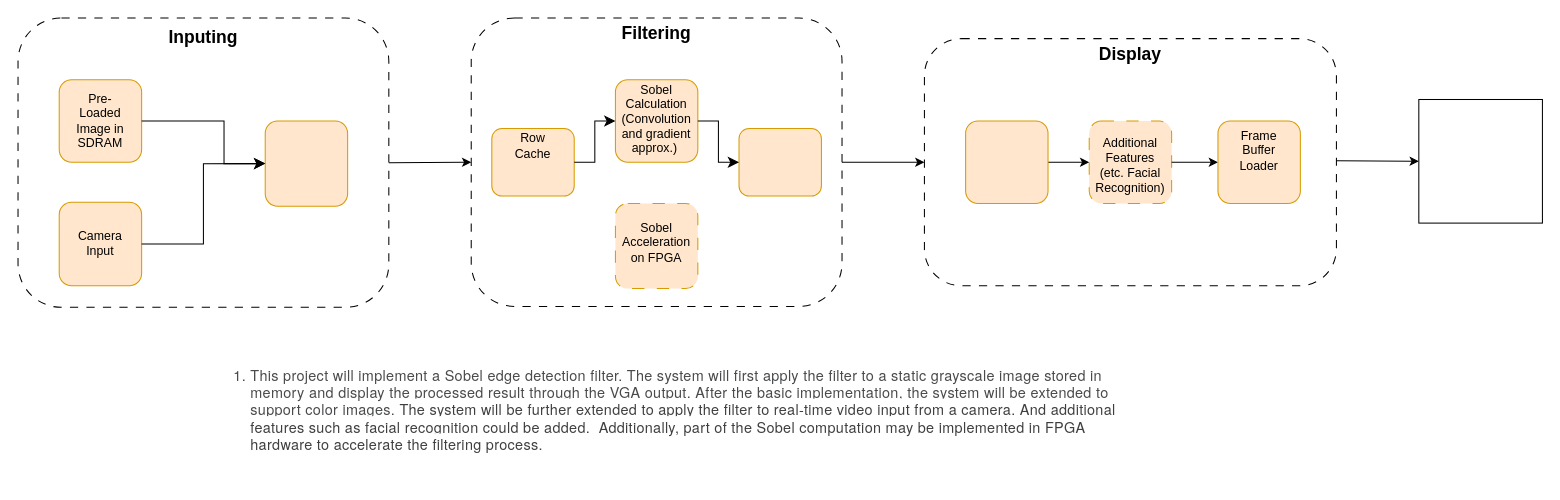
Some shapes in this 1560 by 500 pixel diagram are drawn without their labels. The shapes that lost their labels are listed below. From the top down, each one's centre as x and y in pixels, then its label:
the point at 306,163: Color to Greyscale convertion
the point at 779,162: Row Combining
the point at 1006,161: 8-bit BW to RBG
the point at 1480,160: Monitor
